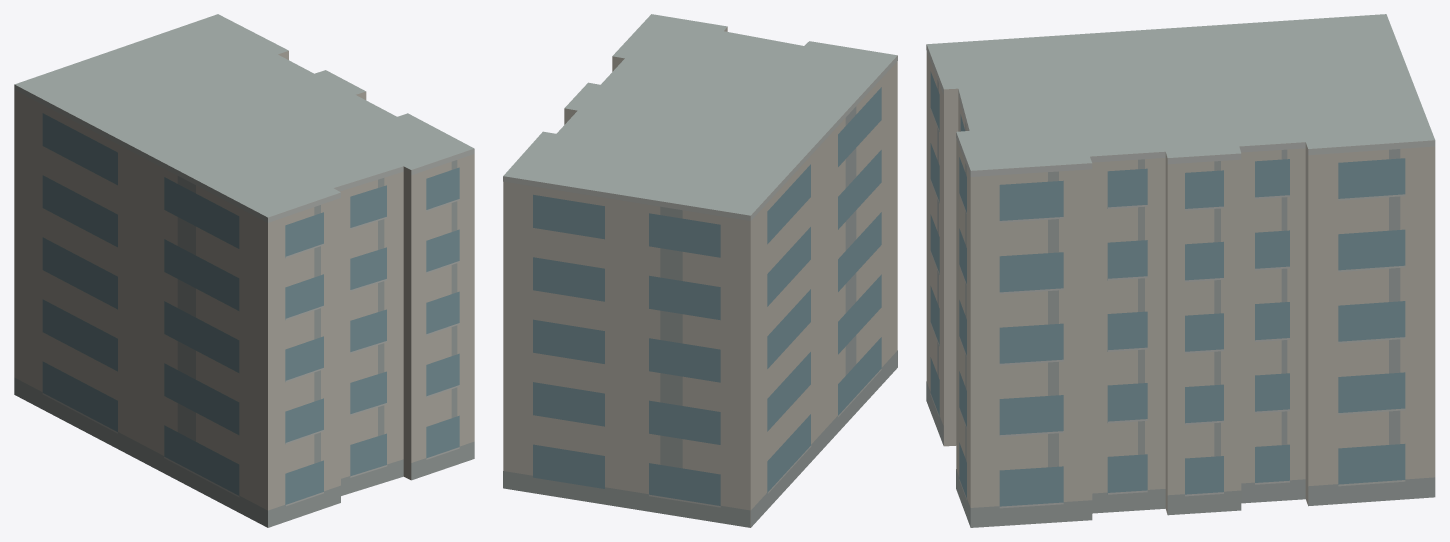
File: survey-upis-32719561.glb
3 views of the same model, side by side, from view 1: azimuth 30°, elevation 25°; view 2: azimuth 150°, elevation 25°; view 3: azimuth 270°, elevation 25° (orthographic). The views are drawn at different scales.
Parts seen in each view (by area): view 1: survey-upis-32719561.tmp; view 2: survey-upis-32719561.tmp; view 3: survey-upis-32719561.tmp.
Part boxes in pixels (<box>): survey-upis-32719561.tmp: <box>14,14,474,527</box>; survey-upis-32719561.tmp: <box>503,14,897,527</box>; survey-upis-32719561.tmp: <box>926,14,1435,527</box>.
Size of the model in its own units: 13.2 by 14 by 18.09.
